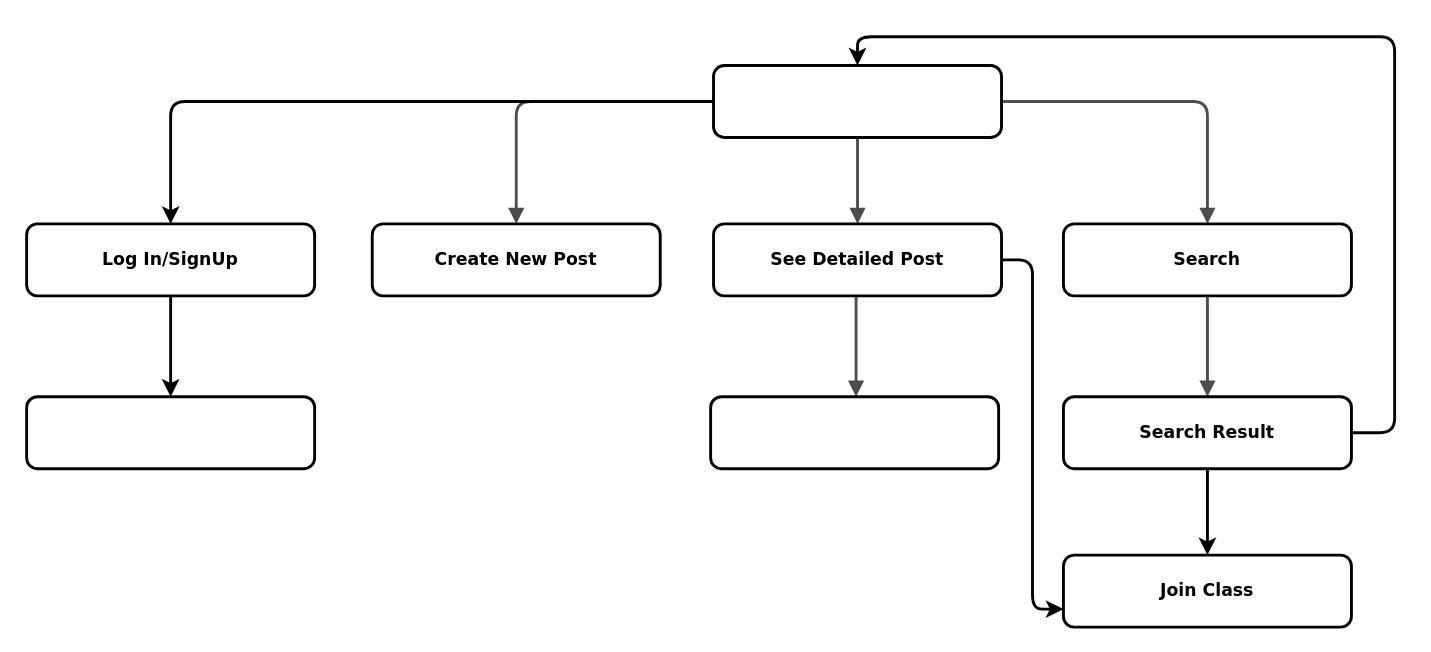
Some shapes in this 1431 by 652 pixel diagram are drawn without their labels. Here are the shapes that lost their labels. From the top down, the box of each, then its label:
(711, 63, 1002, 138): Home Page: View Posts
(24, 395, 315, 469): Account
(708, 395, 999, 469): Comment
